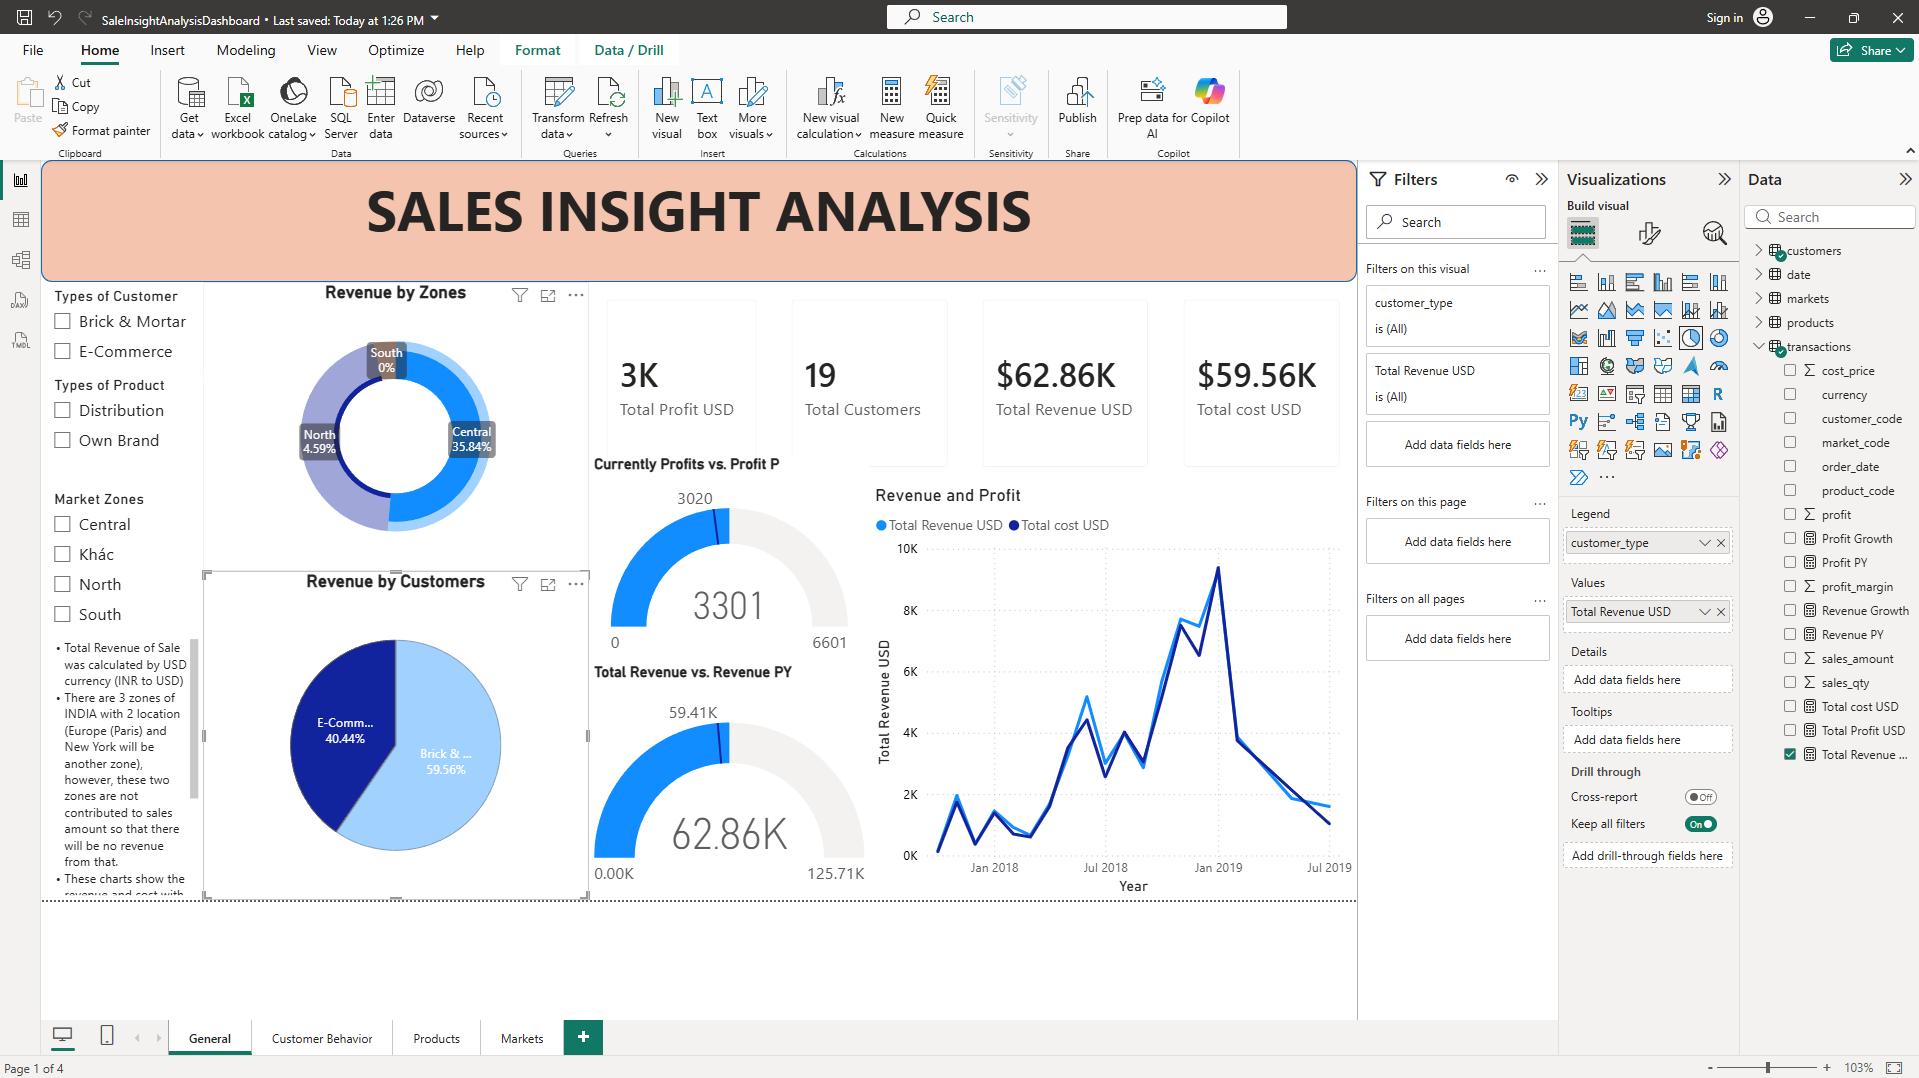

The dashboard page shown, as its layout file describes it:
{"tool":"powerbi","page":{"name":"General","canvas":[1280,720],"ordinal":0},"visuals":[{"type":"lineChart","title":"Revenue and Profit","fields":{"Y2":["transactions.Total cost USD"],"Y":["transactions.Total Revenue USD"],"Category":["date.date.Variation.Date Hierarchy.Year","date.date.Variation.Date Hierarchy.Month"]},"box":[806,316,474,404],"z":0},{"type":"shape","box":[0,0,1280,118.7],"z":1000},{"type":"textbox","box":[0,5.8,1280,106],"z":2000},{"type":"pieChart","title":"Revenue by Customers","fields":{"Y":["transactions.Total Revenue USD"],"Category":["customers.customer_type"]},"box":[158,400,375,320],"z":3000},{"type":"donutChart","title":"Revenue by Zones","fields":{"Category":["markets.Normalized_Zone"],"Y":["transactions.Total Revenue USD"]},"box":[158,119,375,281],"z":4000},{"type":"cardVisual","fields":{"Data":["transactions.Total cost USD"]},"box":[1094,119,186,197],"z":5000},{"type":"cardVisual","fields":{"Data":["transactions.Total Revenue USD"]},"box":[899,119,195,197],"z":6000},{"type":"cardVisual","fields":{"Data":["customers.Total Customers"]},"box":[713,119,186,197],"z":7000},{"type":"slicer","fields":{"Values":["customers.customer_type"]},"box":[0,119,158,99],"z":8000},{"type":"slicer","fields":{"Values":["markets.Normalized_Zone"]},"box":[0,316,158,145],"z":9000},{"type":"slicer","fields":{"Values":["products.product_type"]},"box":[0,205,158,111],"z":10000},{"type":"textbox","box":[0,461,158,259],"z":11000},{"type":"cardVisual","fields":{"Data":["transactions.Total Profit USD"]},"box":[533,119,180,197],"z":12000},{"type":"gauge","title":"Total Revenue vs. Revenue PY","fields":{"Y":["transactions.Total Revenue USD"],"TargetValue":["transactions.Revenue PY"]},"box":[533,490,273,230],"z":13000},{"type":"gauge","title":"Total Profit vs. Profit PY","fields":{"TargetValue":["transactions.Profit PY"],"Y":["transactions.Total Profit USD"]},"box":[533,288,273,202],"z":14000}]}

Visuals, with their boxes on the page's 1280x720 design canvas (x1, y1, x2, y2). These are canvas units, not pixel positions in the 1919x1078 screenshot, which may show the page scaled, cropped or inside an application window:
"Revenue and Profit" lineChart: {"x1": 806, "y1": 316, "x2": 1280, "y2": 720}
shape: {"x1": 0, "y1": 0, "x2": 1280, "y2": 119}
textbox: {"x1": 0, "y1": 6, "x2": 1280, "y2": 112}
"Revenue by Customers" pieChart: {"x1": 158, "y1": 400, "x2": 533, "y2": 720}
"Revenue by Zones" donutChart: {"x1": 158, "y1": 119, "x2": 533, "y2": 400}
cardVisual - transactions.Total cost USD: {"x1": 1094, "y1": 119, "x2": 1280, "y2": 316}
cardVisual - transactions.Total Revenue USD: {"x1": 899, "y1": 119, "x2": 1094, "y2": 316}
cardVisual - customers.Total Customers: {"x1": 713, "y1": 119, "x2": 899, "y2": 316}
slicer - customers.customer_type: {"x1": 0, "y1": 119, "x2": 158, "y2": 218}
slicer - markets.Normalized_Zone: {"x1": 0, "y1": 316, "x2": 158, "y2": 461}
slicer - products.product_type: {"x1": 0, "y1": 205, "x2": 158, "y2": 316}
textbox: {"x1": 0, "y1": 461, "x2": 158, "y2": 720}
cardVisual - transactions.Total Profit USD: {"x1": 533, "y1": 119, "x2": 713, "y2": 316}
"Total Revenue vs. Revenue PY" gauge: {"x1": 533, "y1": 490, "x2": 806, "y2": 720}
"Total Profit vs. Profit PY" gauge: {"x1": 533, "y1": 288, "x2": 806, "y2": 490}
